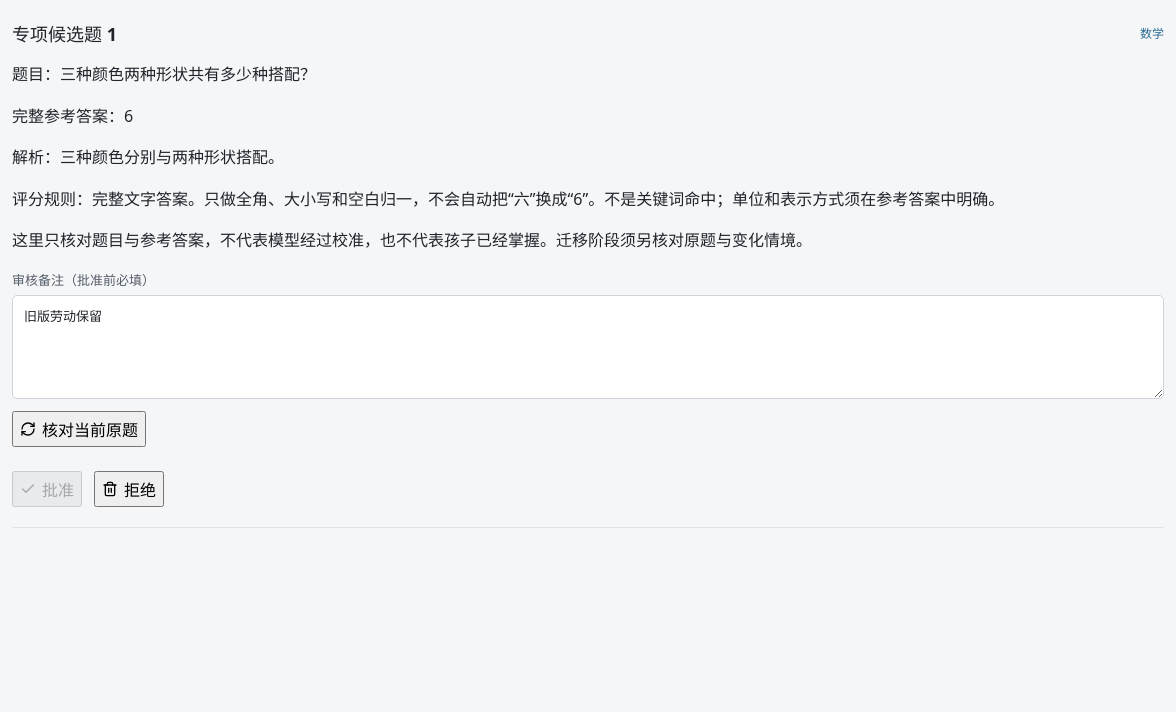
Test case: blocks unseen versions and migrates only on explicit review with transfer rationale reset
Later steps or results of the test are not shown.
Click the button "核对当前原题" at (79,429), box [12,411,146,447]
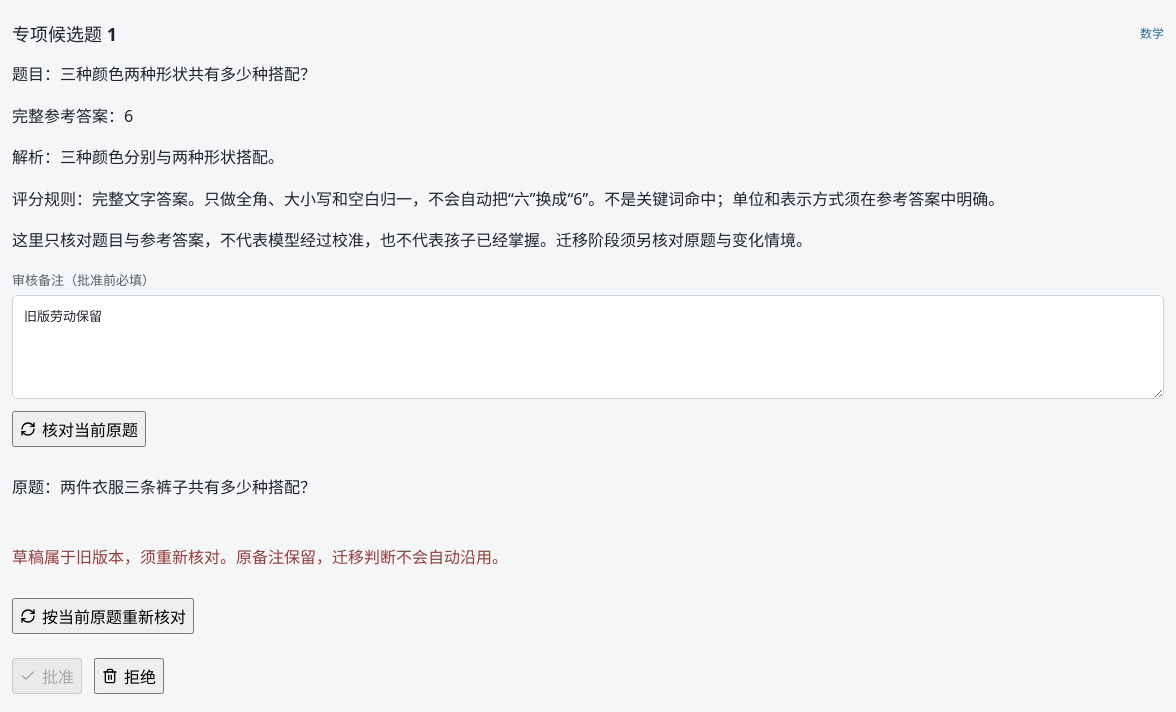
Expected: the button "批准" is disabled, [12,658,82,694]
Now the text "草稿属于旧版本，须重新核对。原备注保留，迁移判断不会自动沿用。" is shown, box [12,546,508,568]
